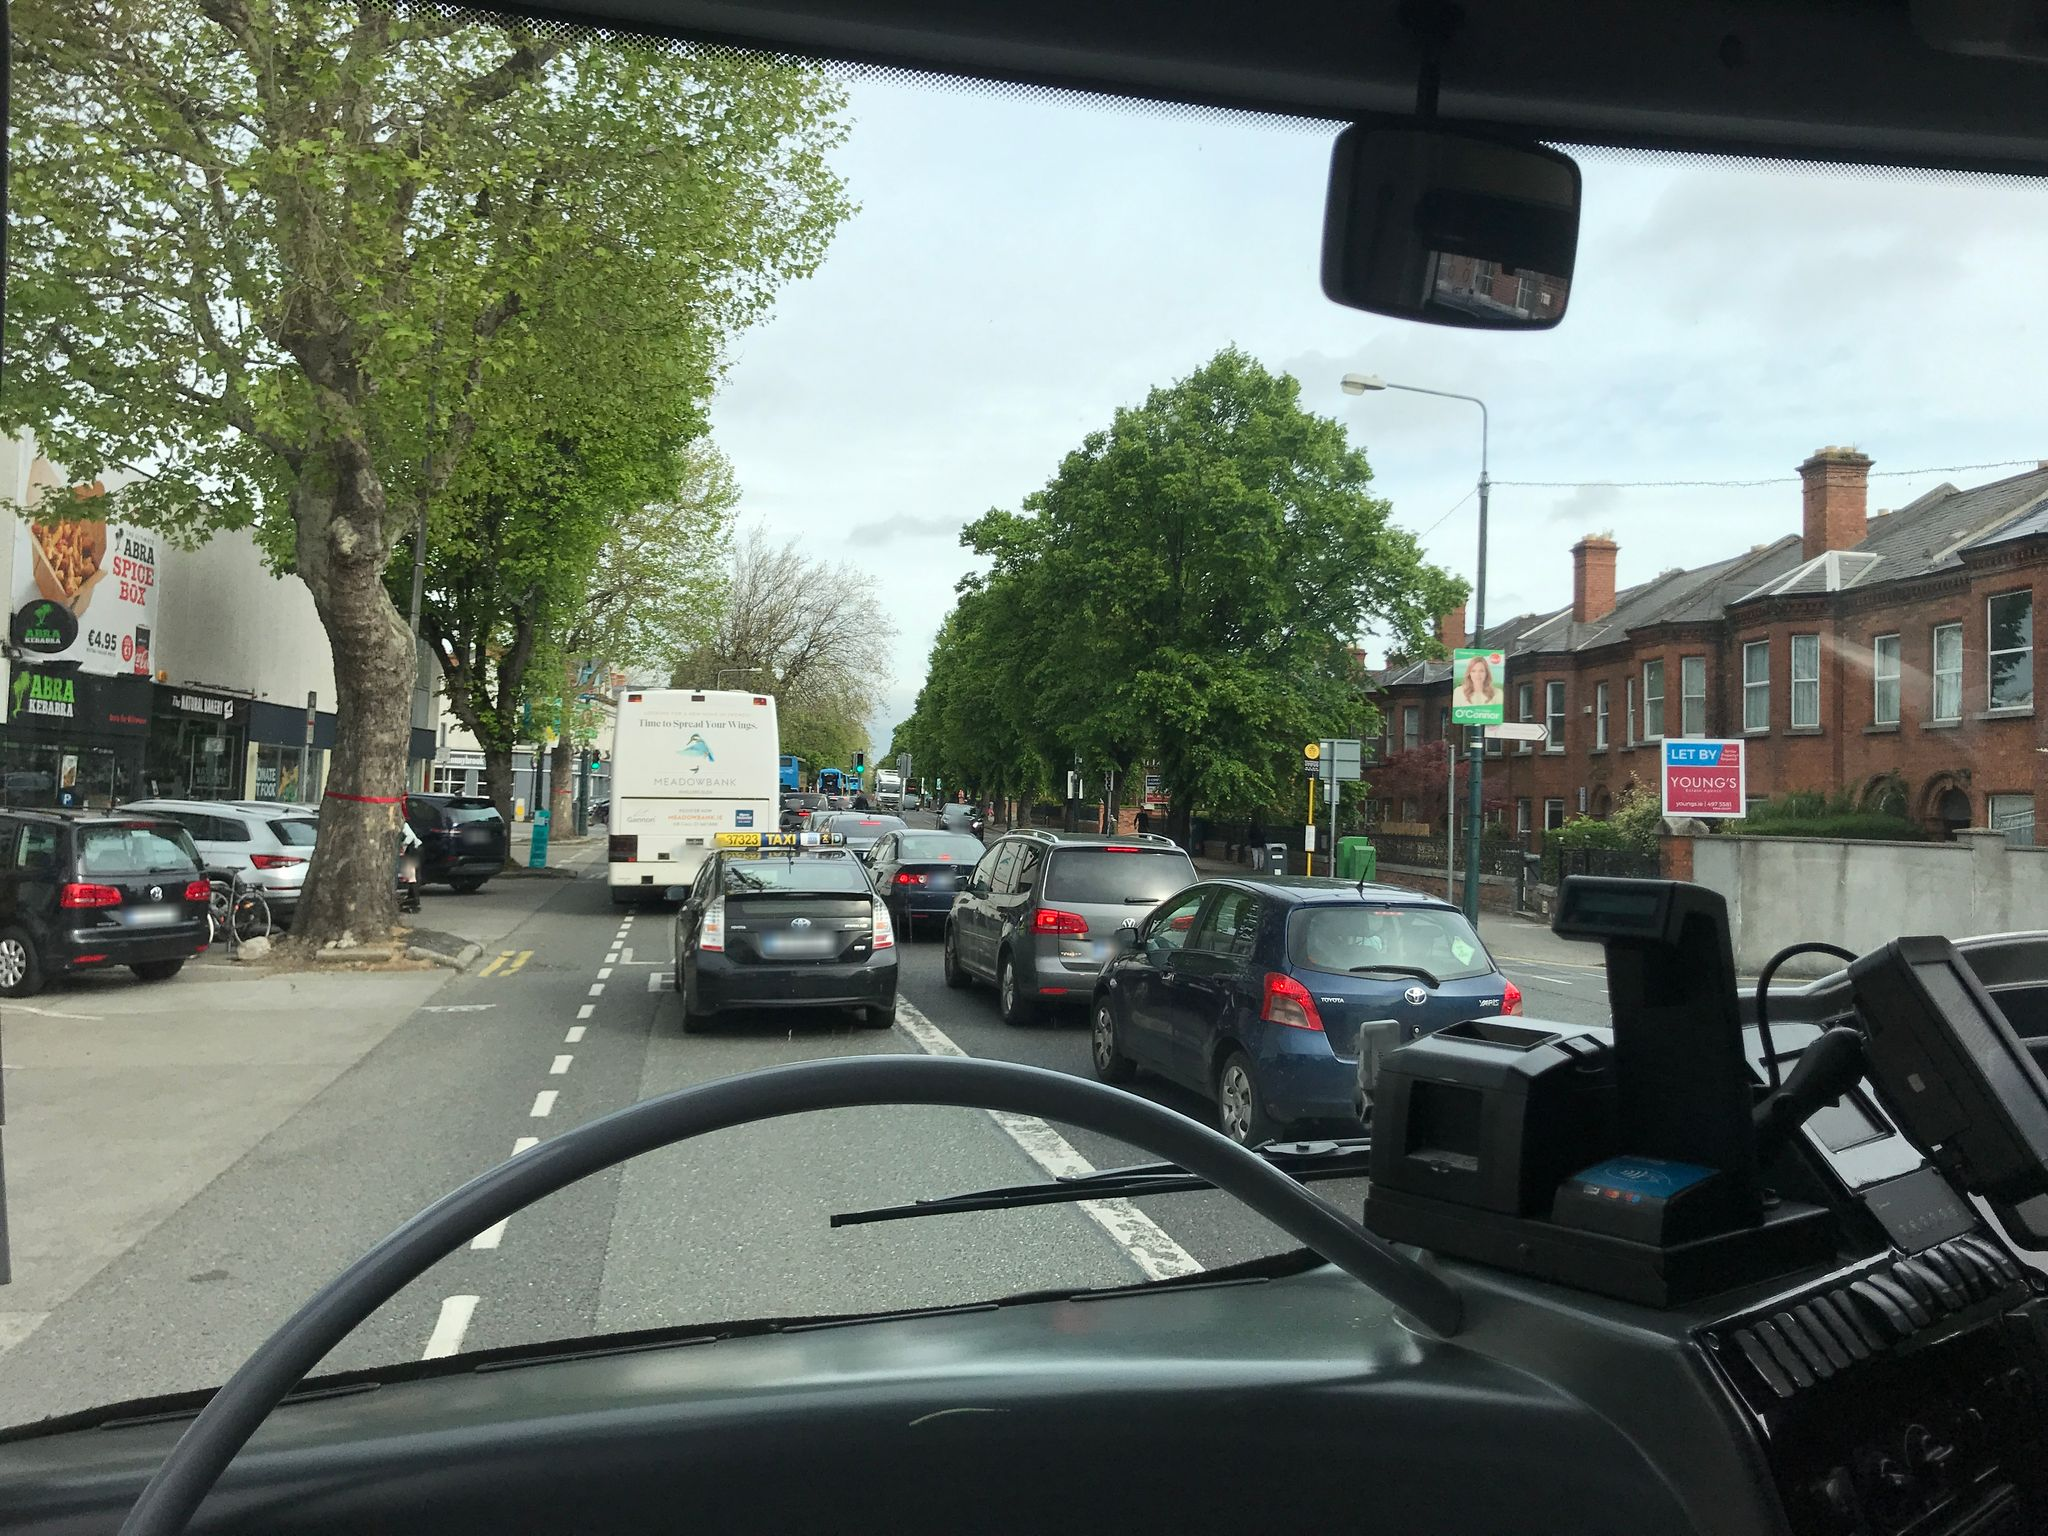property sign: (1643, 710, 1761, 824)
